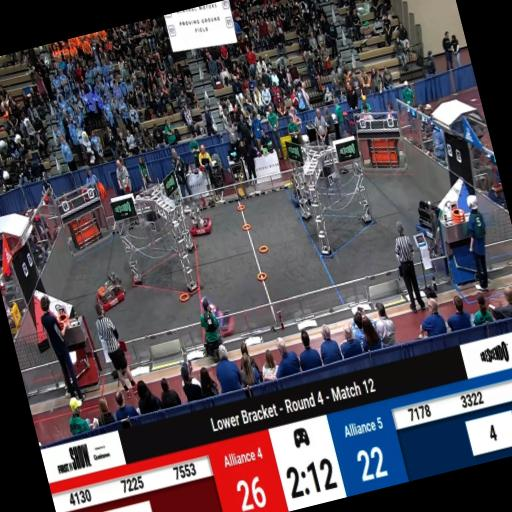robot: (409, 196, 446, 242), (94, 272, 130, 313), (185, 205, 215, 238)
